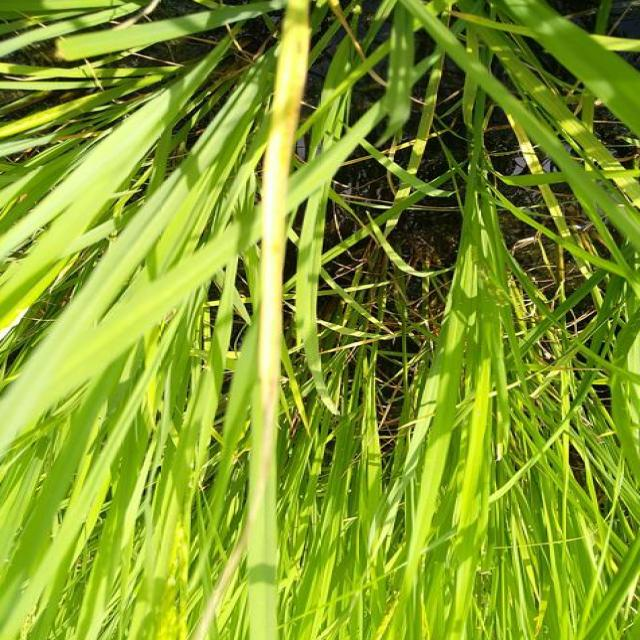Leaf Blight: (191, 0, 309, 640)
